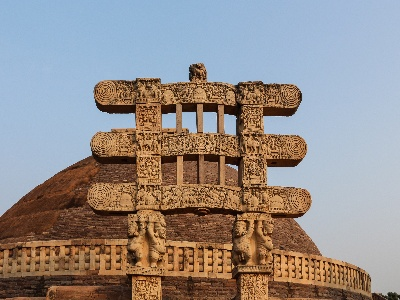torana: (78, 68, 320, 294)
